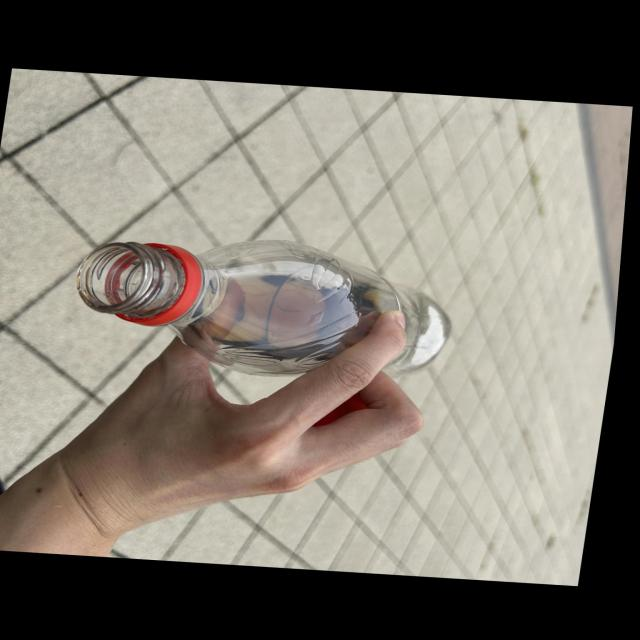low: (77, 240, 450, 376)
